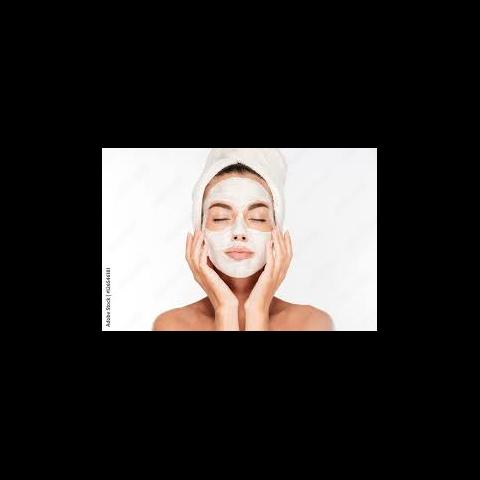closed: (206, 201, 272, 229)
